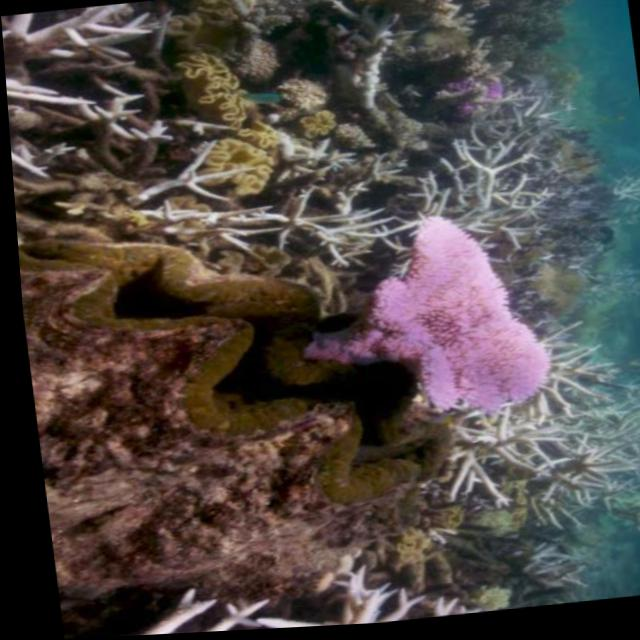Bleached Coral: (1, 7, 166, 223)
Healthy Coral: (312, 207, 554, 448)
